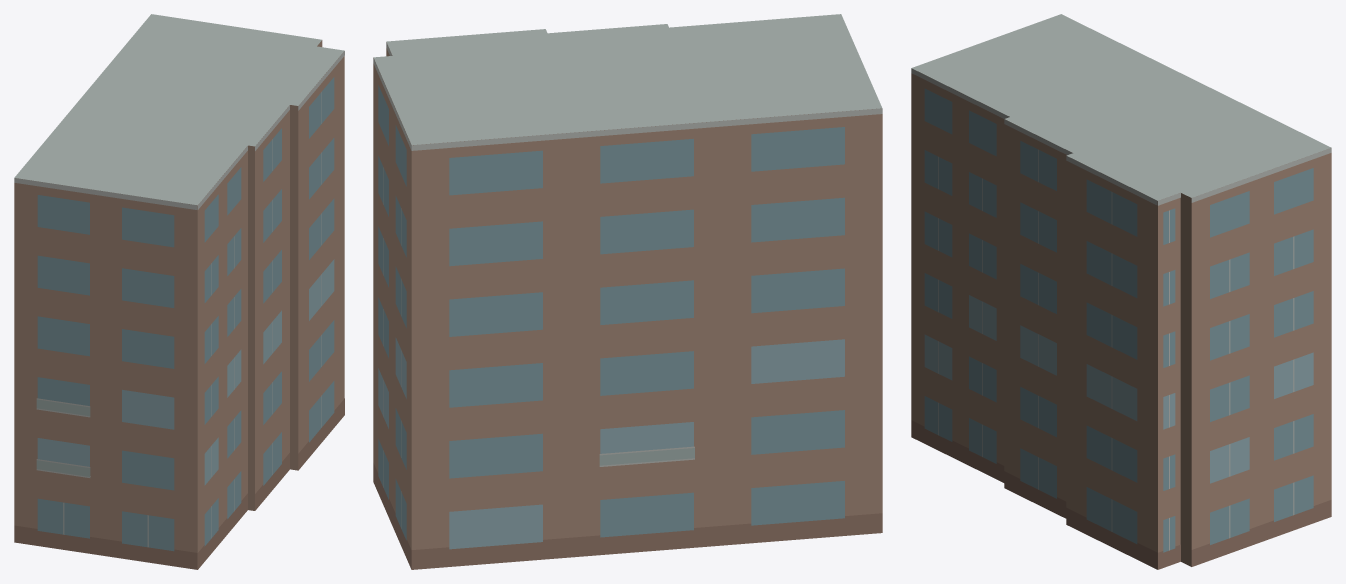
The model's file is survey-upis-32657770.glb.
3 renders of one model, left to right at view 1: azimuth 30°, elevation 25°; view 2: azimuth 150°, elevation 25°; view 3: azimuth 270°, elevation 25°, orthographic. The views are drawn at different scales.
Visible parts, largest first — view 1: survey-upis-32657770.tmp; view 2: survey-upis-32657770.tmp; view 3: survey-upis-32657770.tmp.
Part boxes in pixels (bbox=[...]): survey-upis-32657770.tmp: bbox=[14, 14, 344, 569]; survey-upis-32657770.tmp: bbox=[373, 14, 882, 569]; survey-upis-32657770.tmp: bbox=[911, 14, 1331, 569].
Bounding box in the file's own units: 19.66 × 18.1 × 18.69.
